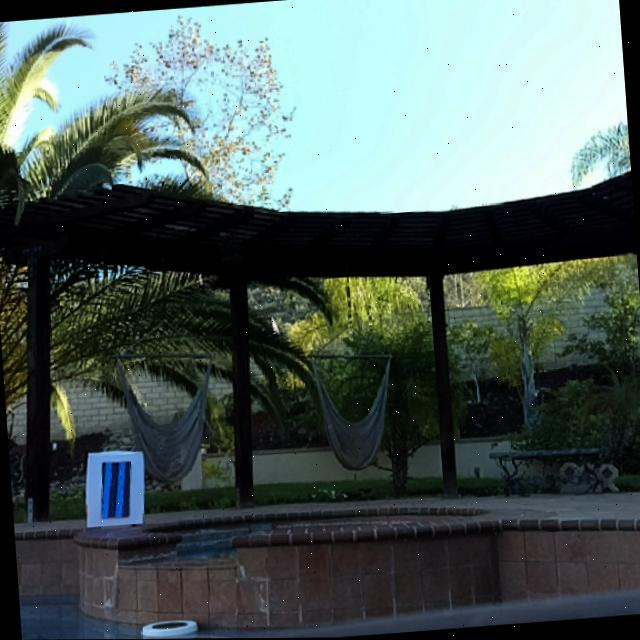led: (94, 459, 135, 522)
